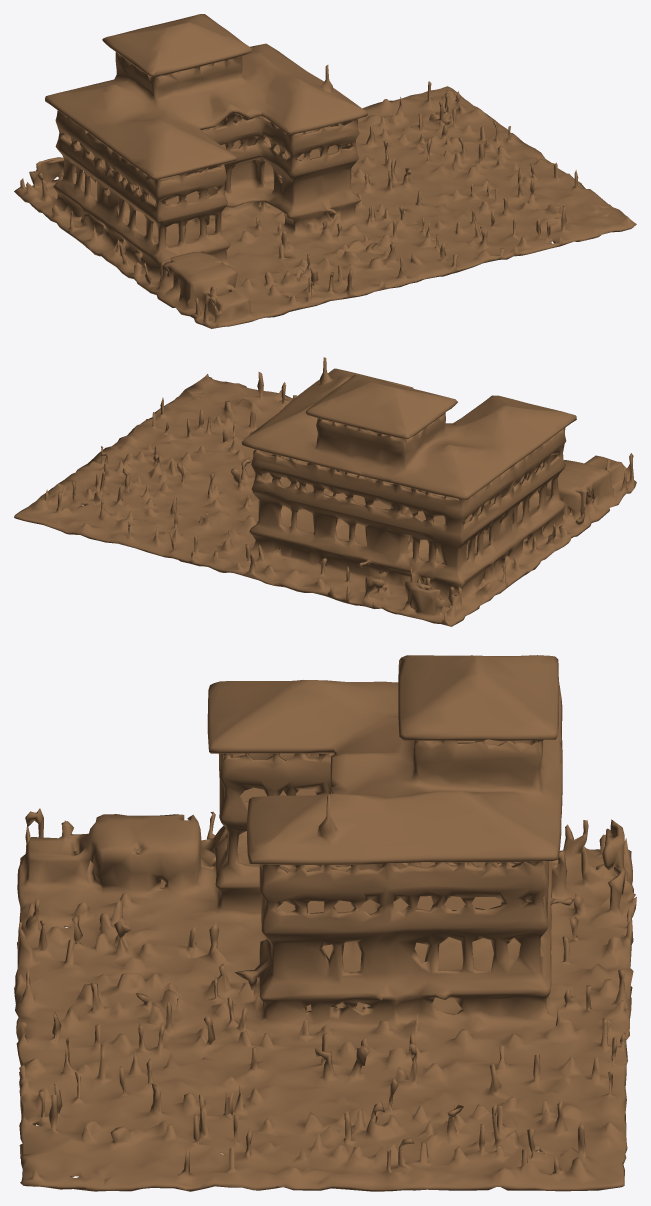
The model's file is royalpalace_final.glb.
3 renders of one model, top to bottom at view 1: azimuth 30°, elevation 25°; view 2: azimuth 150°, elevation 25°; view 3: azimuth 270°, elevation 25°, orthographic. The views are drawn at different scales.
Parts seen in each view (by area): view 1: tmpixloqlbo.ply; view 2: tmpixloqlbo.ply; view 3: tmpixloqlbo.ply.
Part boxes in pixels (x1=…): tmpixloqlbo.ply: x1=14, y1=14, x2=636, y2=328; tmpixloqlbo.ply: x1=14, y1=357, x2=636, y2=626; tmpixloqlbo.ply: x1=14, y1=655, x2=636, y2=1191.
Size of the model in its own units: 1.96 by 0.7618 by 1.52.
